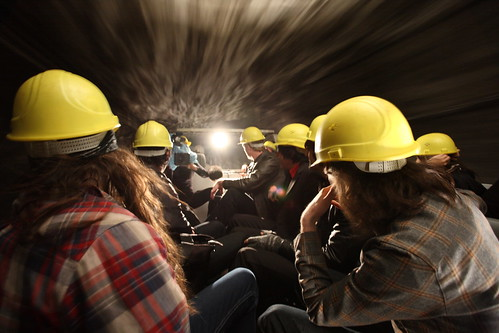person hardhat: (4, 70, 201, 333), (314, 92, 499, 333), (129, 117, 194, 237), (408, 129, 494, 210), (223, 126, 283, 221), (272, 123, 320, 229), (304, 110, 329, 157), (173, 132, 196, 163), (263, 138, 278, 155)
